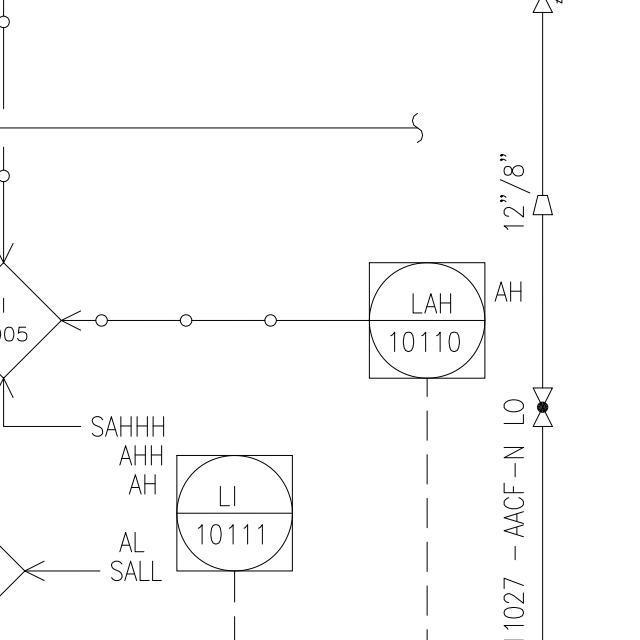BV2: (528, 382, 564, 432)
SP: (528, 190, 556, 218)
